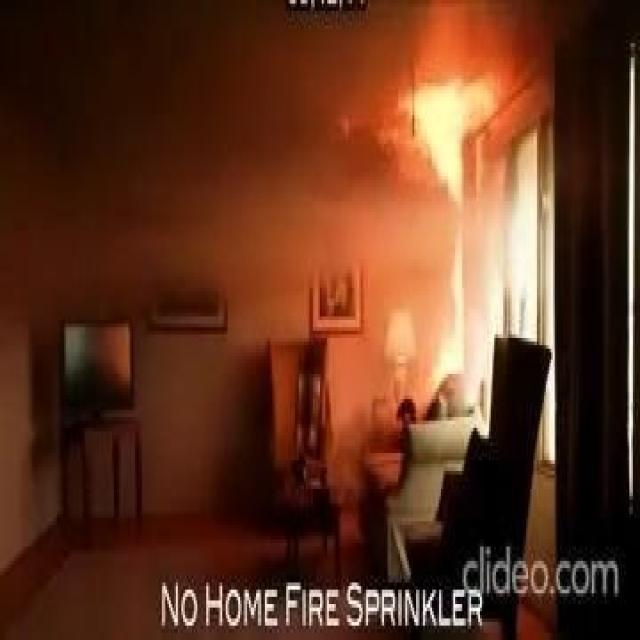fire: (391, 0, 528, 406)
